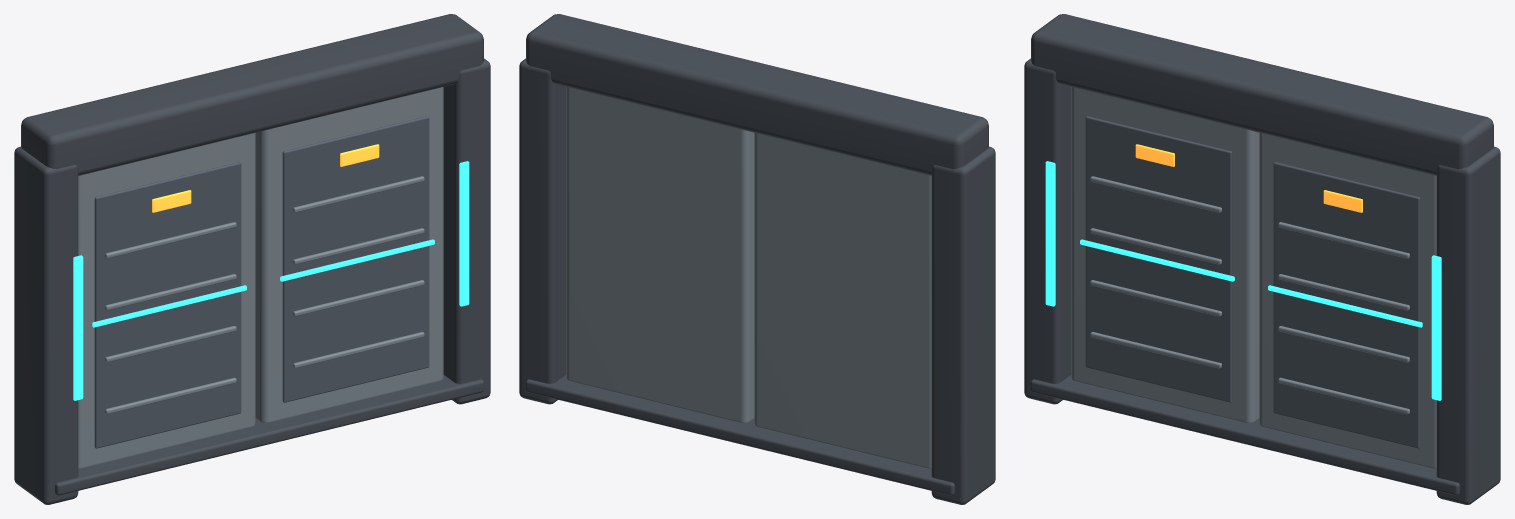
The model's file is SF_SlidingLabDoor.fbx.
3 renders of one model, left to right at view 1: azimuth 30°, elevation 25°; view 2: azimuth 150°, elevation 25°; view 3: azimuth 330°, elevation 25°, orthographic.
Parts seen in each view (by area): view 1: DoorPanel_Left / armor inset, DoorPanel_Right / armor inset, Frame / top beam, Frame / left pillar, DoorPanel_Right / main sliding leaf, DoorPanel_Left / main sliding leaf, Frame / right pillar, Frame / bottom threshold, Frame / vertical scanner 1.48, Frame / vertical scanner -1.48, DoorPanel_Left / luminous perimeter, DoorPanel_Right / luminous perimeter (+10 smaller); view 2: DoorPanel_Right / main sliding leaf, DoorPanel_Left / main sliding leaf, Frame / top beam, Frame / left pillar, Frame / right pillar, Frame / bottom threshold; view 3: DoorPanel_Right / armor inset, DoorPanel_Left / armor inset, Frame / top beam, Frame / right pillar, DoorPanel_Left / main sliding leaf, DoorPanel_Right / main sliding leaf, Frame / left pillar, Frame / bottom threshold, Frame / vertical scanner -1.48, Frame / vertical scanner 1.48, DoorPanel_Left / luminous perimeter, DoorPanel_Right / luminous perimeter (+10 smaller).
Boxes of the visible parts, <box> form: DoorPanel_Left / armor inset: <box>94,162,241,448</box>; DoorPanel_Right / armor inset: <box>282,116,429,402</box>; Frame / top beam: <box>21,14,483,175</box>; Frame / left pillar: <box>14,146,78,504</box>; DoorPanel_Right / main sliding leaf: <box>255,87,443,422</box>; DoorPanel_Left / main sliding leaf: <box>78,133,255,468</box>; Frame / right pillar: <box>443,58,490,404</box>; Frame / bottom threshold: <box>55,375,484,495</box>; Frame / vertical scanner 1.48: <box>459,161,469,306</box>; Frame / vertical scanner -1.48: <box>73,255,83,400</box>; DoorPanel_Left / luminous perimeter: <box>92,285,246,327</box>; DoorPanel_Right / luminous perimeter: <box>280,239,434,281</box>; DoorPanel_Right / main sliding leaf: <box>566,87,754,422</box>; DoorPanel_Left / main sliding leaf: <box>754,133,931,468</box>; Frame / top beam: <box>526,14,988,175</box>; Frame / left pillar: <box>931,146,995,504</box>; Frame / right pillar: <box>519,58,566,404</box>; Frame / bottom threshold: <box>525,375,954,495</box>; DoorPanel_Right / armor inset: <box>1273,162,1420,448</box>; DoorPanel_Left / armor inset: <box>1085,116,1232,402</box>; Frame / top beam: <box>1031,14,1493,175</box>; Frame / right pillar: <box>1436,146,1500,504</box>; DoorPanel_Left / main sliding leaf: <box>1071,87,1259,422</box>; DoorPanel_Right / main sliding leaf: <box>1259,133,1436,468</box>; Frame / left pillar: <box>1024,58,1071,404</box>; Frame / bottom threshold: <box>1030,375,1459,495</box>; Frame / vertical scanner -1.48: <box>1045,161,1055,306</box>; Frame / vertical scanner 1.48: <box>1431,255,1441,400</box>; DoorPanel_Left / luminous perimeter: <box>1080,239,1234,281</box>; DoorPanel_Right / luminous perimeter: <box>1268,285,1422,327</box>.
Bounding box in the file's own units: 343 × 269 × 51.3.
